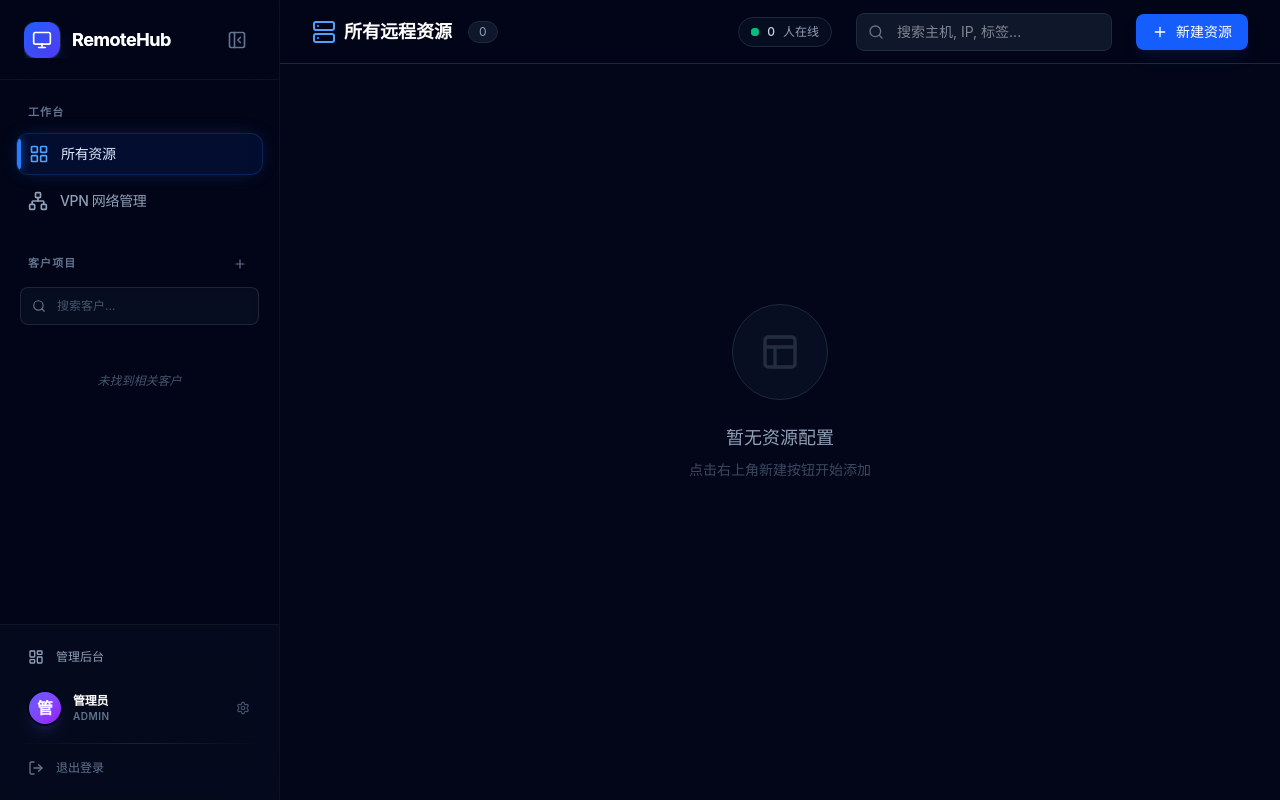
Test: 连接卡片区接线（T5） › 用户管理：侧栏 footer 头像按钮 → 打开账号管理弹窗
Click the text "管理员": click(91, 700) [73, 692, 108, 708]
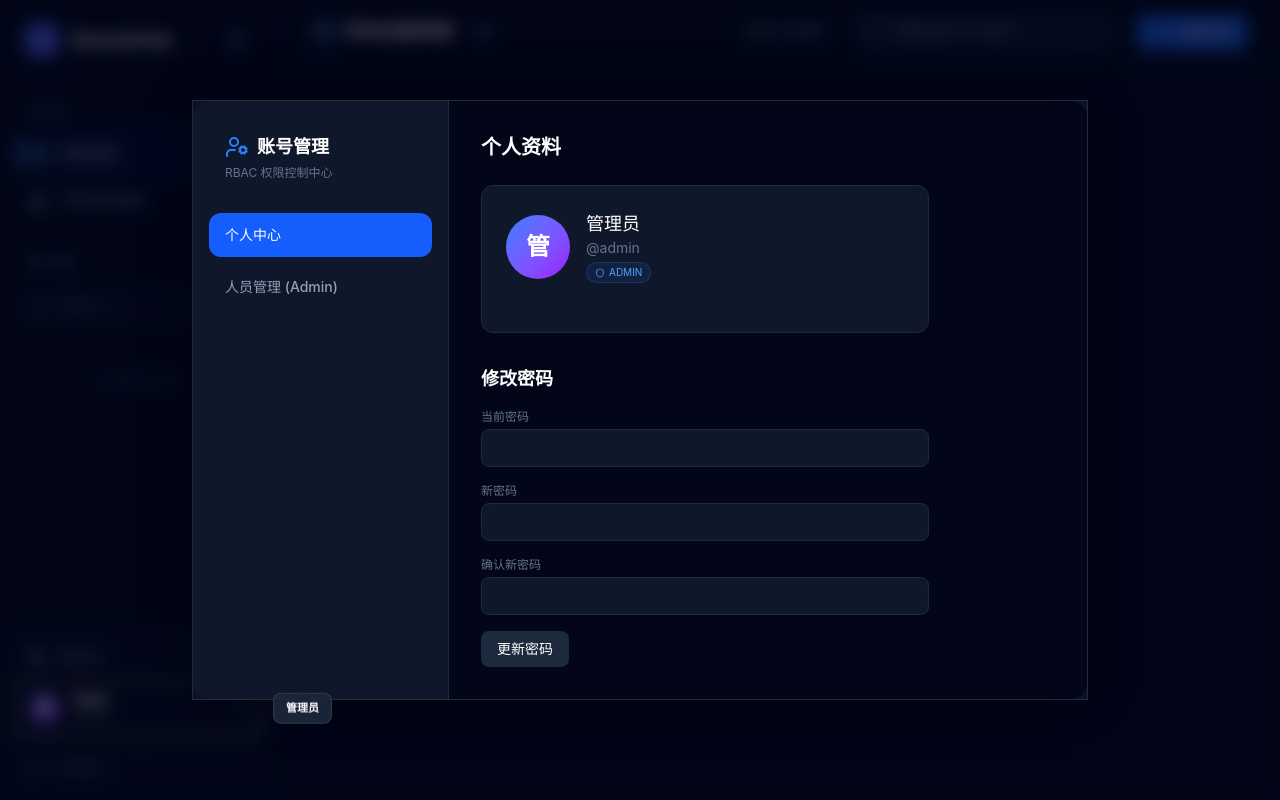
Now the heading "账号管理" is shown, box [225, 135, 329, 159]
Now the button "个人中心" is shown, box [209, 213, 432, 257]
Now the button "人员管理 (Admin)" is shown, box [209, 265, 432, 309]
